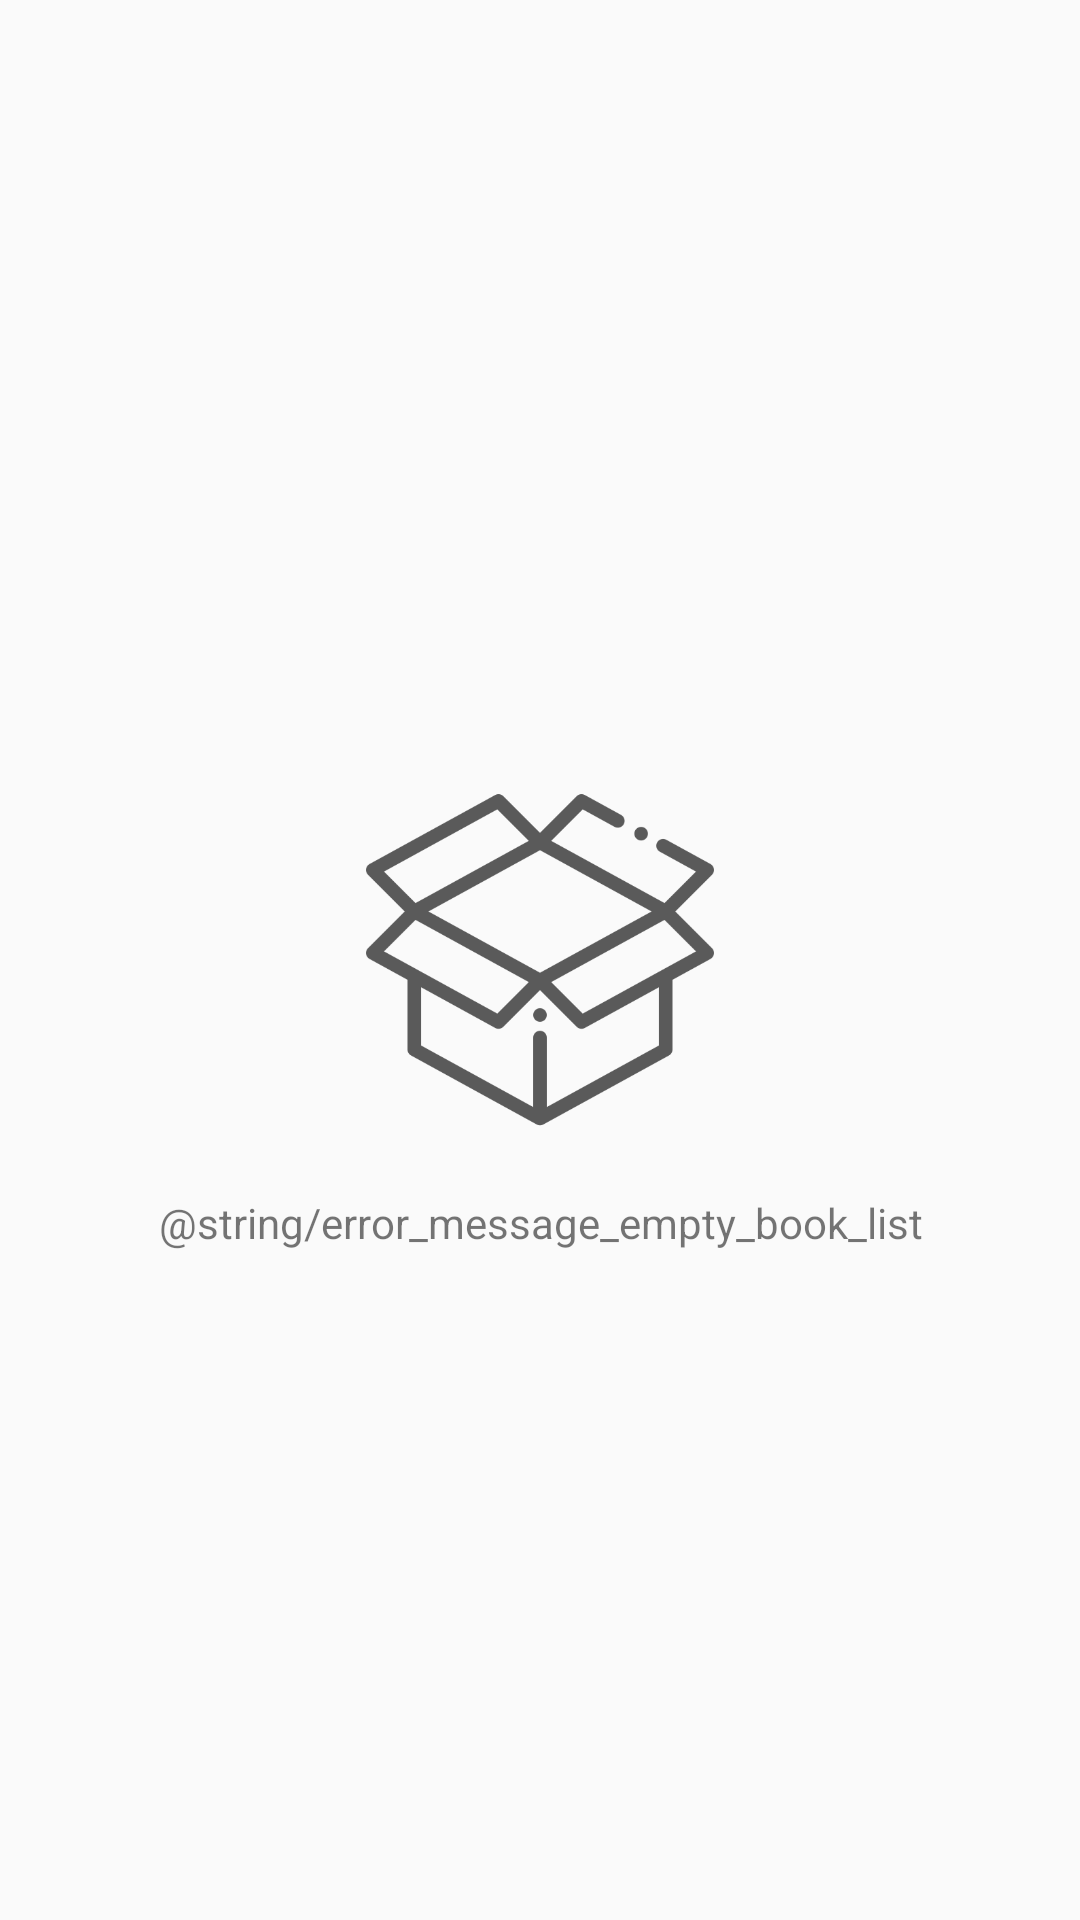

Screen size 1080px x 1920px. Icon name, then its center in pixels as [x,y]:
graphic empty: [540,960]
